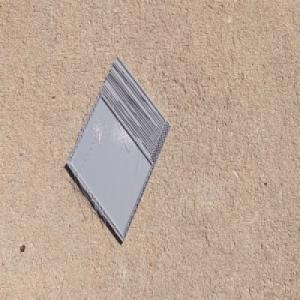PlasticPart: (65, 54, 172, 245)
